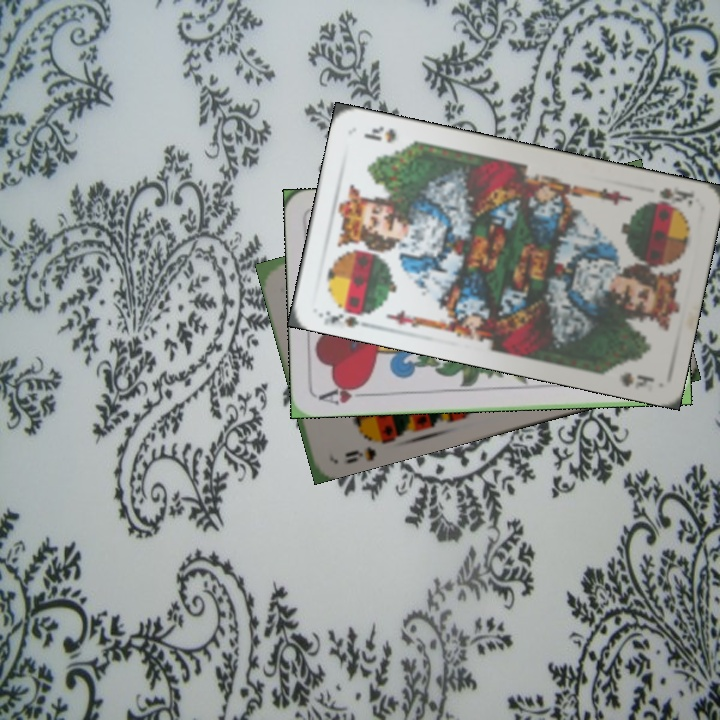HA: (315, 380, 374, 407)
S9: (341, 442, 379, 467)
SK: (315, 300, 376, 331), (644, 182, 697, 211)
